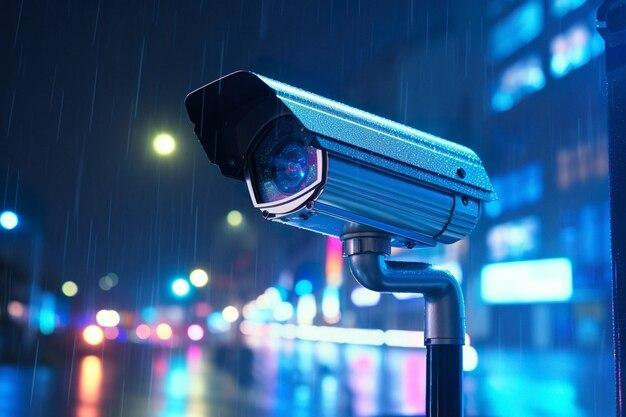camera: (168, 60, 499, 279)
